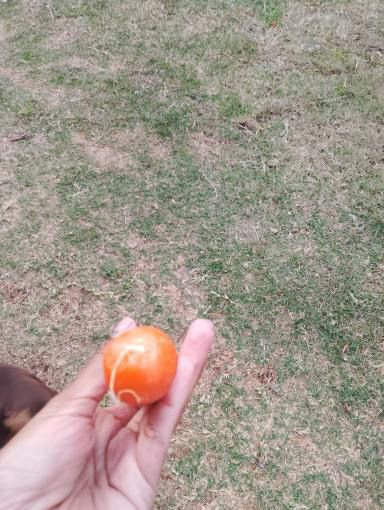carrot: (97, 332, 179, 414)
